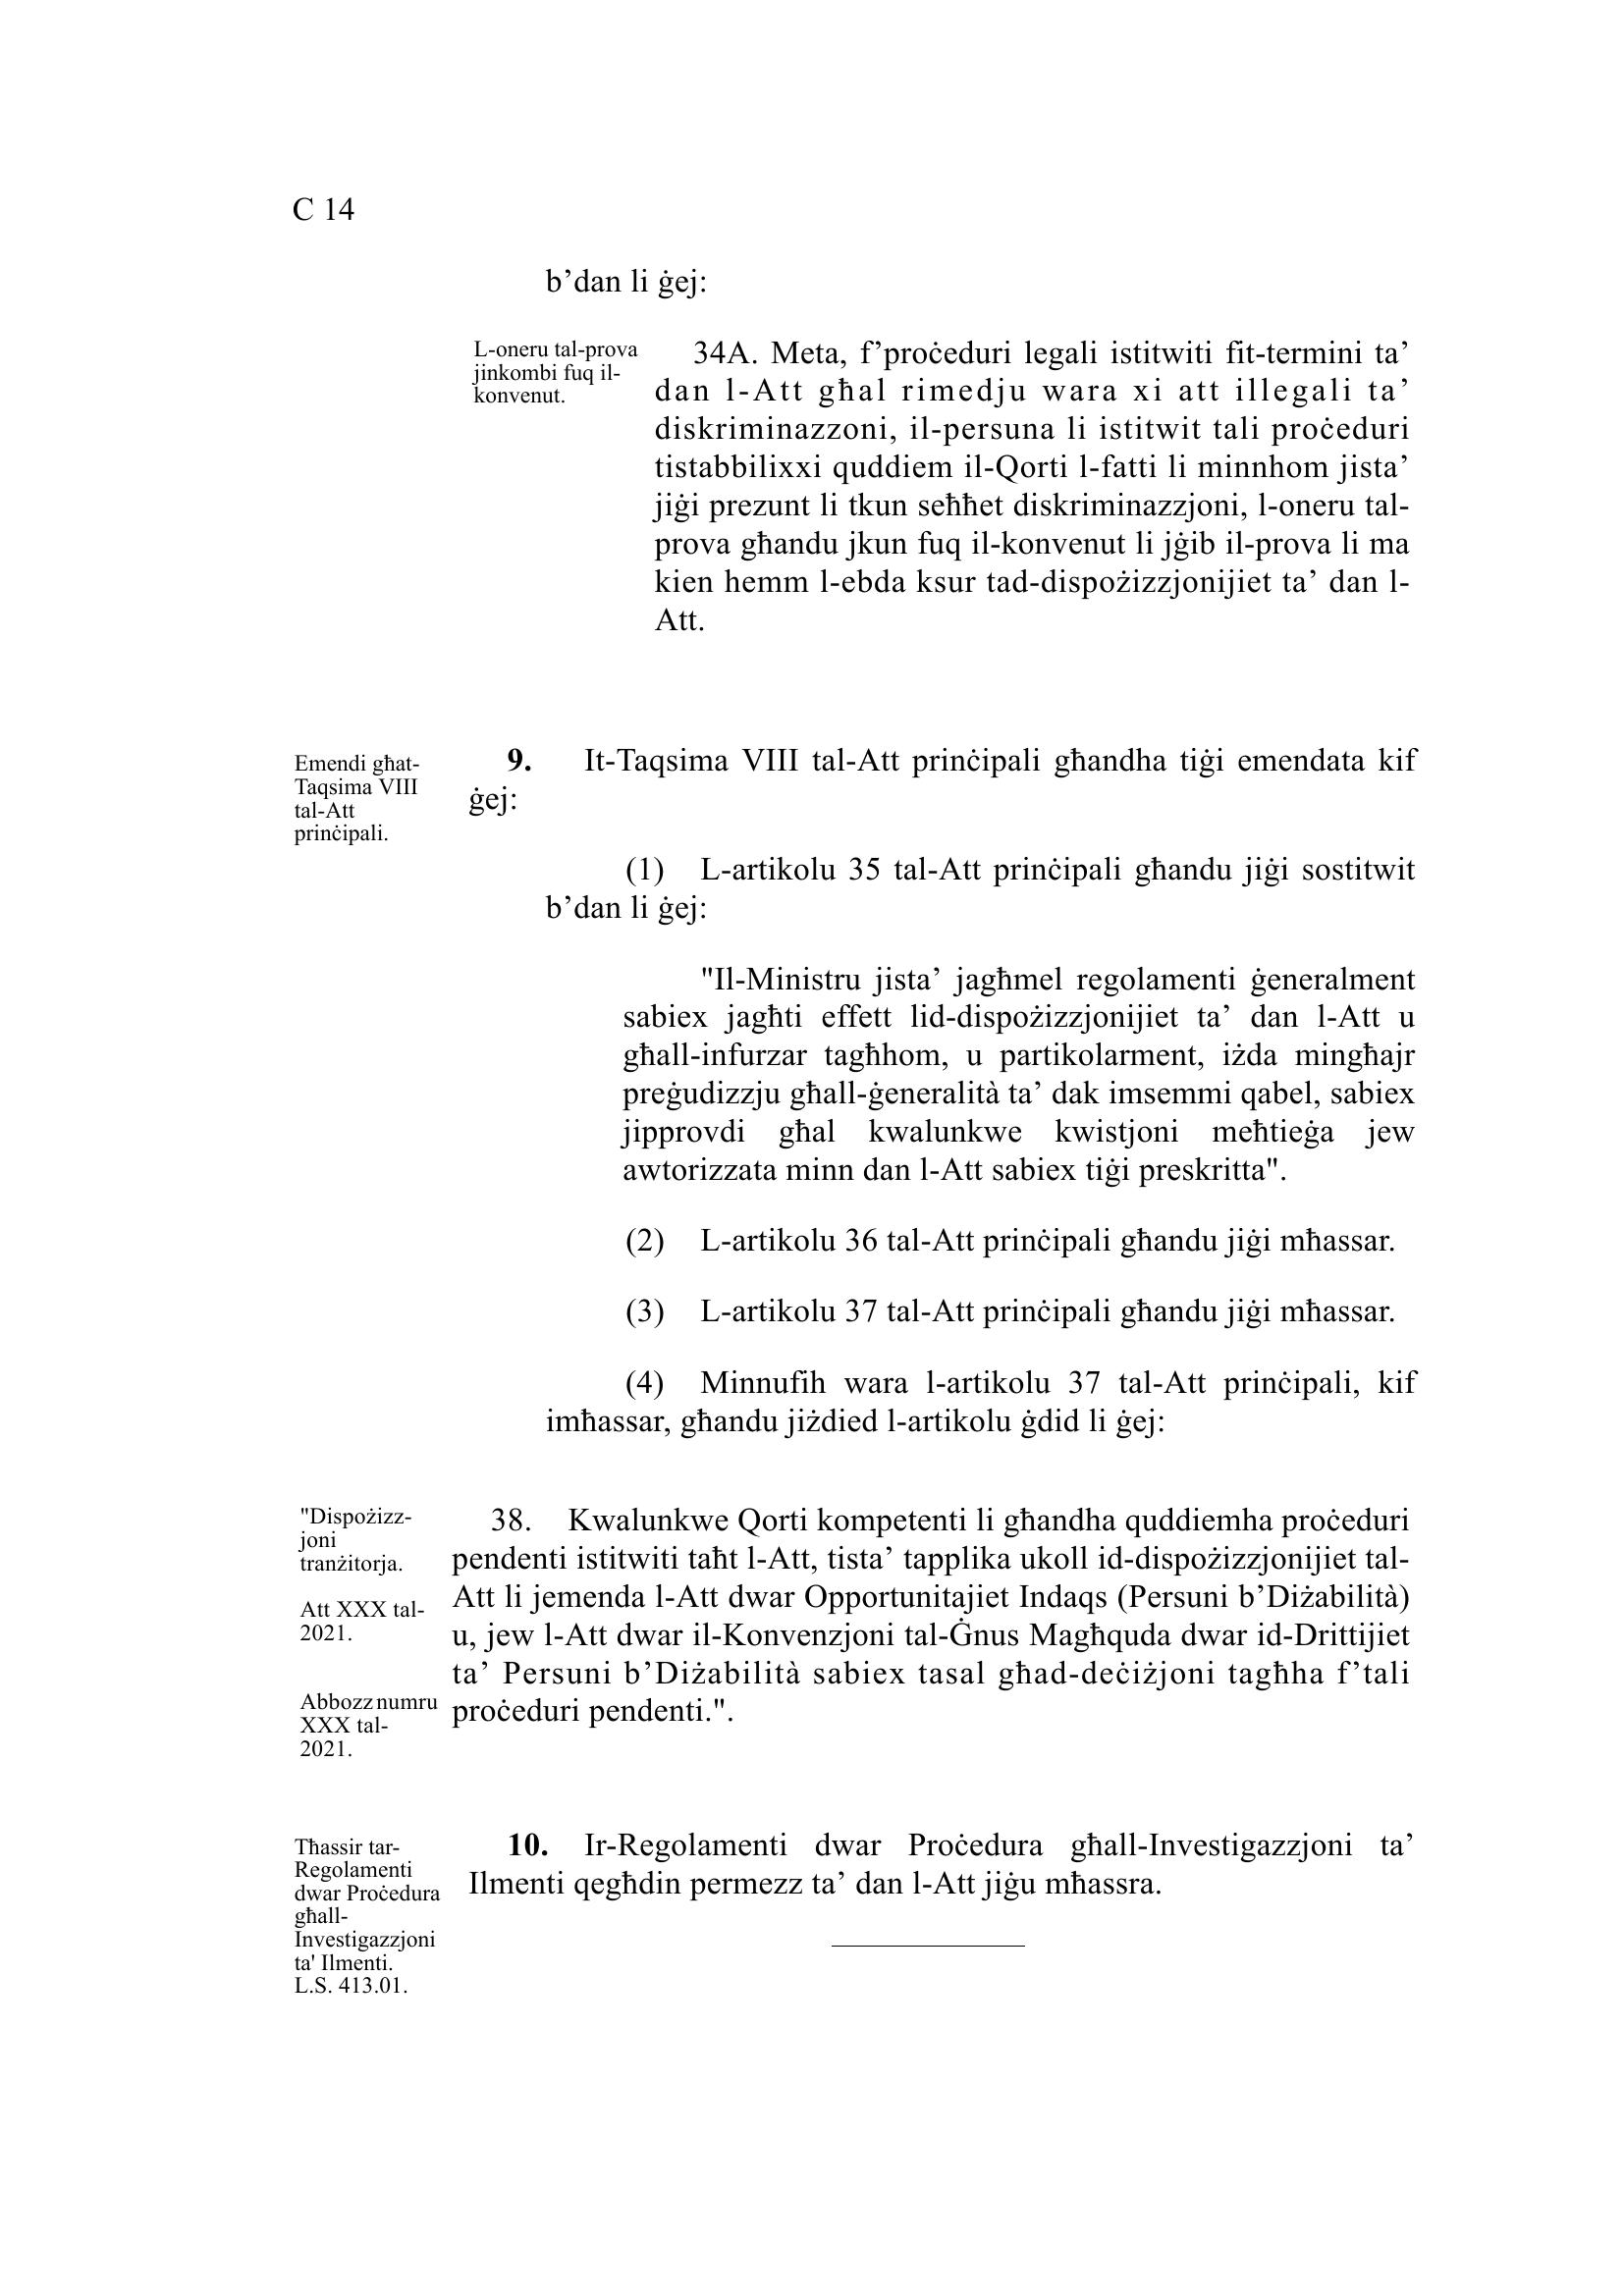text: (448, 706, 1446, 1925), (647, 329, 1425, 643), (524, 246, 714, 320)
